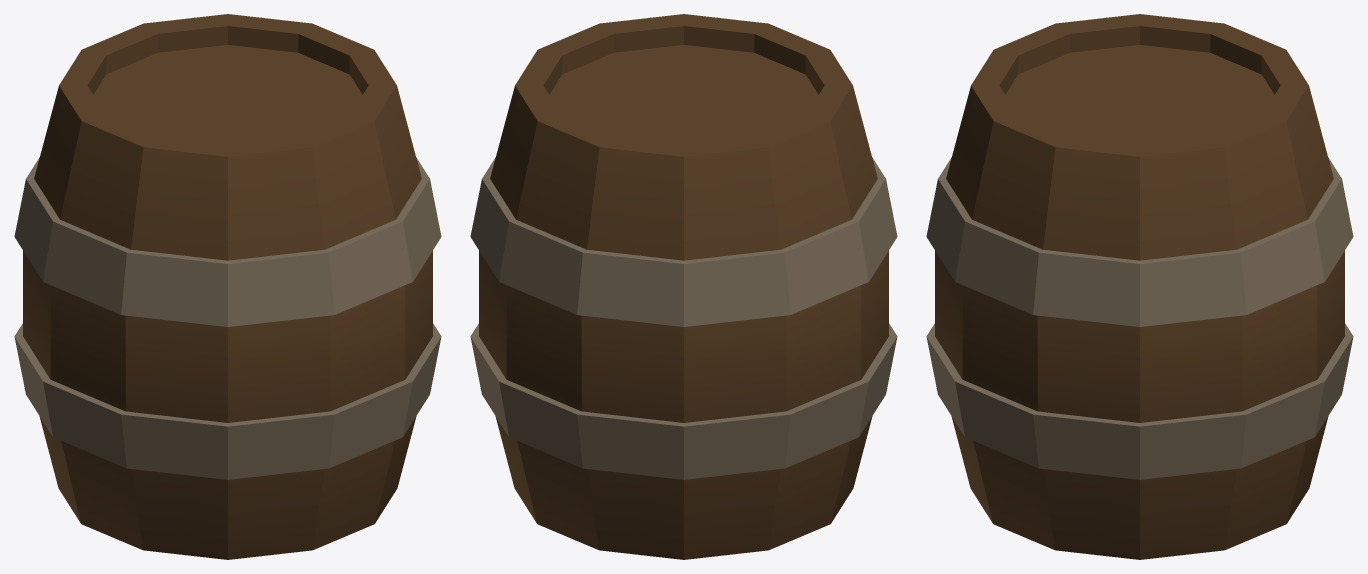
File: barrel.glb
3 renders of one model, left to right at view 1: azimuth 30°, elevation 25°; view 2: azimuth 150°, elevation 25°; view 3: azimuth 270°, elevation 25°, orthographic.
Parts seen in each view (by area): view 1: pCylinder1, pCylinder2; view 2: pCylinder1, pCylinder2; view 3: pCylinder1, pCylinder2.
Boxes of the visible parts, x1,y1,x2,y2 form: pCylinder1: [23, 14, 432, 559]; pCylinder2: [14, 157, 441, 479]; pCylinder1: [479, 14, 888, 559]; pCylinder2: [470, 157, 897, 479]; pCylinder1: [935, 14, 1344, 559]; pCylinder2: [926, 157, 1353, 479].
Size of the model in its own units: 2.98 by 3.1 by 2.98.
